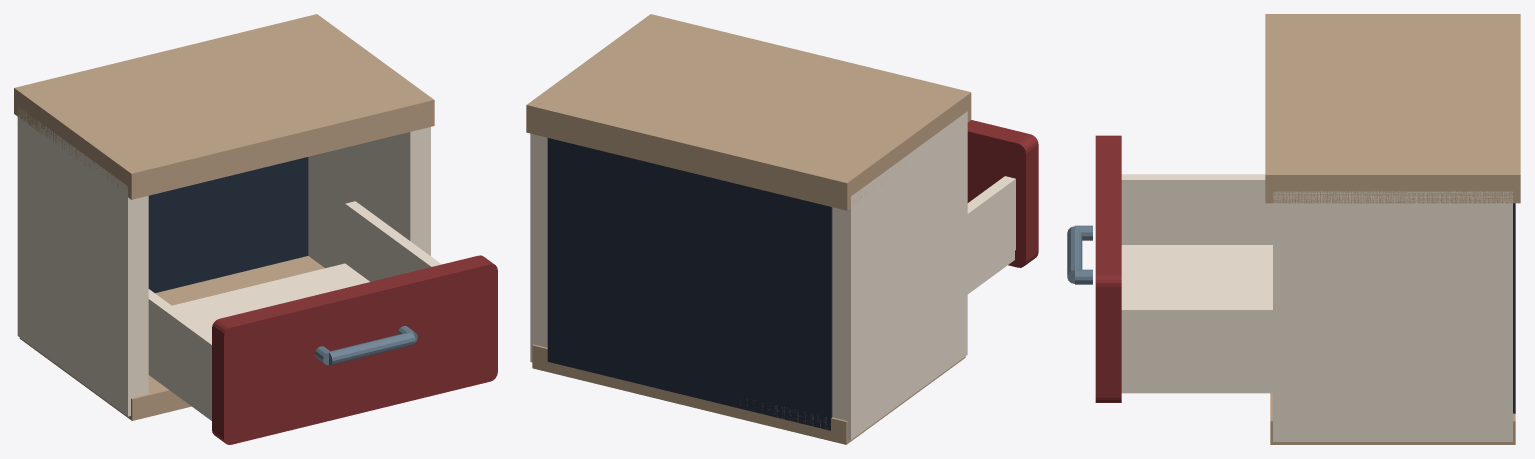
File: drawer.glb
3 renders of one model, left to right at view 1: azimuth 30°, elevation 25°; view 2: azimuth 150°, elevation 25°; view 3: azimuth 270°, elevation 25°, orthographic. The views are drawn at different scales.
Parts seen in each view (by area): view 1: top, drawer front, side -0.68, back, side 0.68, tray, tray side -0.59, tray side 0.59, bottom, drawer grip1; view 2: back, top, side -0.68, drawer front, bottom, tray side -0.59, side 0.68; view 3: side 0.68, top, tray side 0.59, tray, tray side -0.59, drawer front, bottom, drawer grip1, back.
Boxes of the visible parts, left/top/right/bottom form: top: left=14, top=14, right=434, bottom=199; drawer front: left=212, top=255, right=497, bottom=444; side -0.68: left=17, top=106, right=148, bottom=416; back: left=148, top=157, right=308, bottom=292; side 0.68: left=308, top=127, right=430, bottom=268; tray: left=148, top=263, right=369, bottom=420; tray side -0.59: left=148, top=289, right=211, bottom=411; tray side 0.59: left=345, top=201, right=441, bottom=281; bottom: left=19, top=256, right=324, bottom=420; drawer grip1: left=329, top=332, right=415, bottom=365; back: left=547, top=138, right=832, bottom=430; top: left=526, top=14, right=971, bottom=210; side -0.68: left=832, top=111, right=967, bottom=439; drawer front: left=967, top=120, right=1038, bottom=267; bottom: left=532, top=344, right=965, bottom=444; tray side -0.59: left=967, top=176, right=1015, bottom=284; side 0.68: left=530, top=133, right=547, bottom=362; side 0.68: left=1273, top=191, right=1512, bottom=441; top: left=1265, top=14, right=1520, bottom=203; tray side 0.59: left=1121, top=304, right=1272, bottom=383; tray: left=1121, top=245, right=1272, bottom=393; tray side -0.59: left=1121, top=174, right=1272, bottom=244; drawer front: left=1095, top=135, right=1121, bottom=402; bottom: left=1270, top=393, right=1515, bottom=444; drawer grip1: left=1067, top=226, right=1082, bottom=283; back: left=1513, top=203, right=1515, bottom=413.
Bounding box in the file's own units: 1.46 × 1.15 × 1.74.
